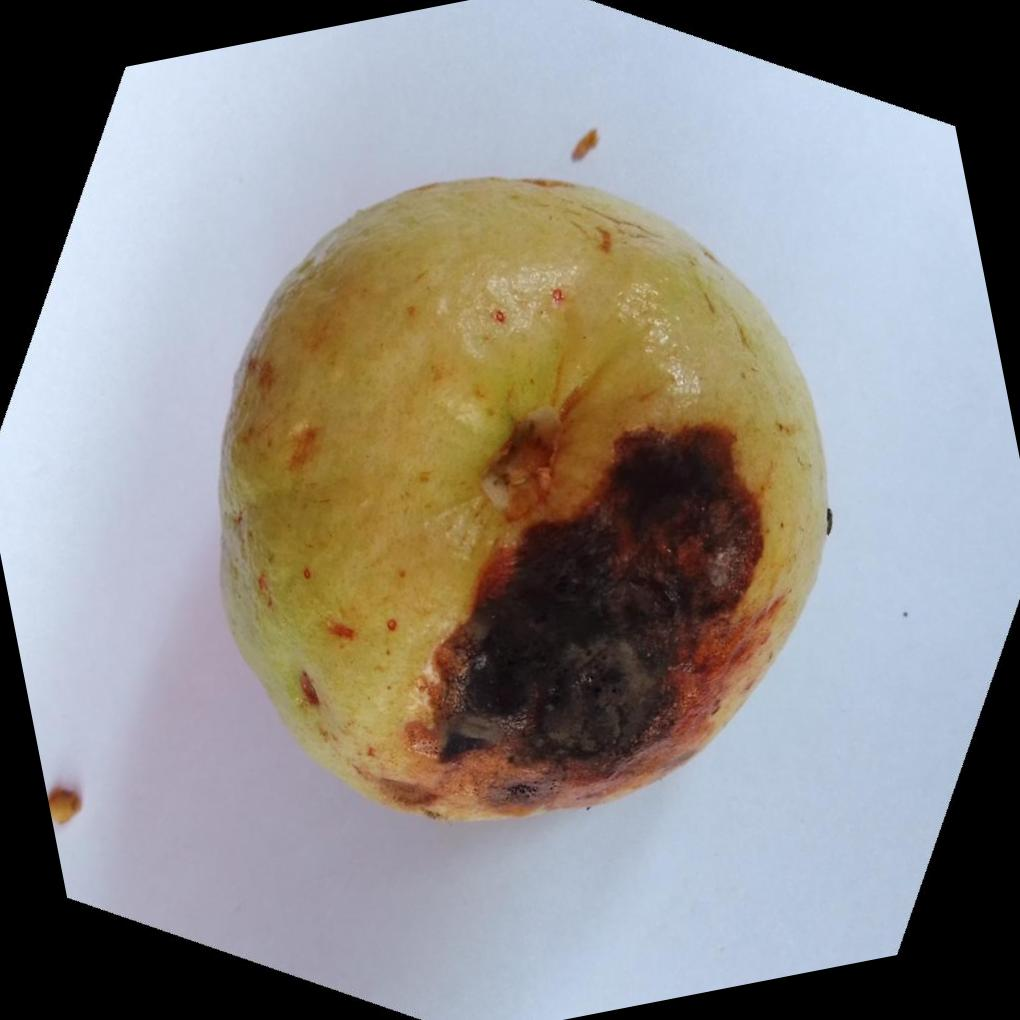FreshOrange: (215, 170, 831, 821)
